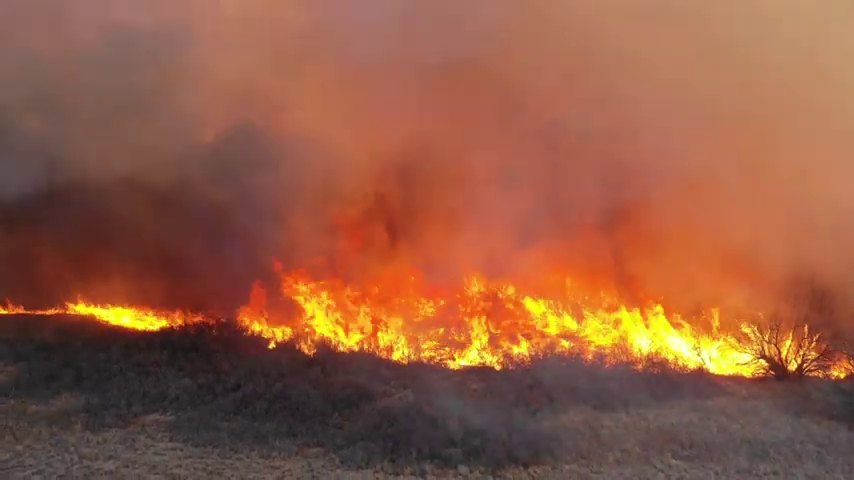forest_fire: (233, 266, 757, 374), (0, 300, 208, 330), (830, 354, 853, 378), (740, 324, 746, 330)
